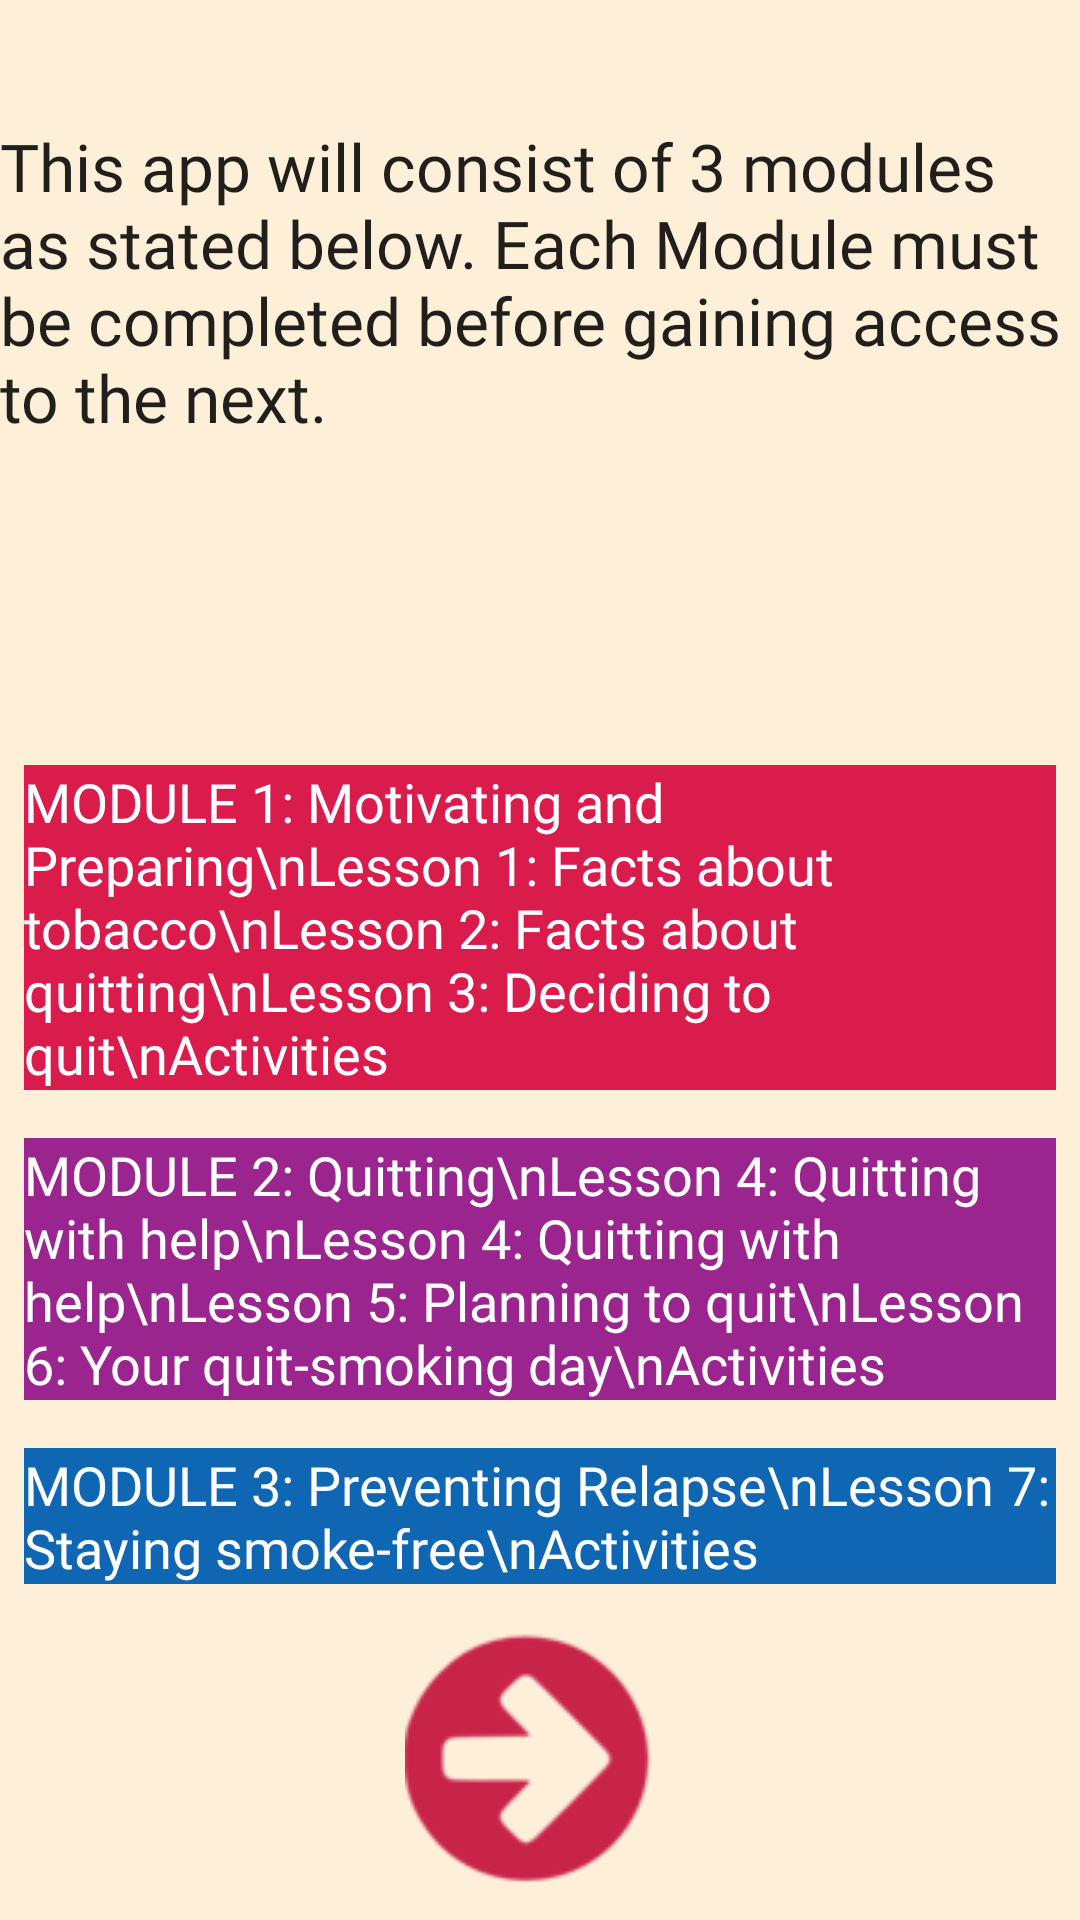

Icon bounding boxes for this 1080 x 1920 phone screenshot, format (x1, y1, x2, y2):
next: (405, 1634, 650, 1882)
